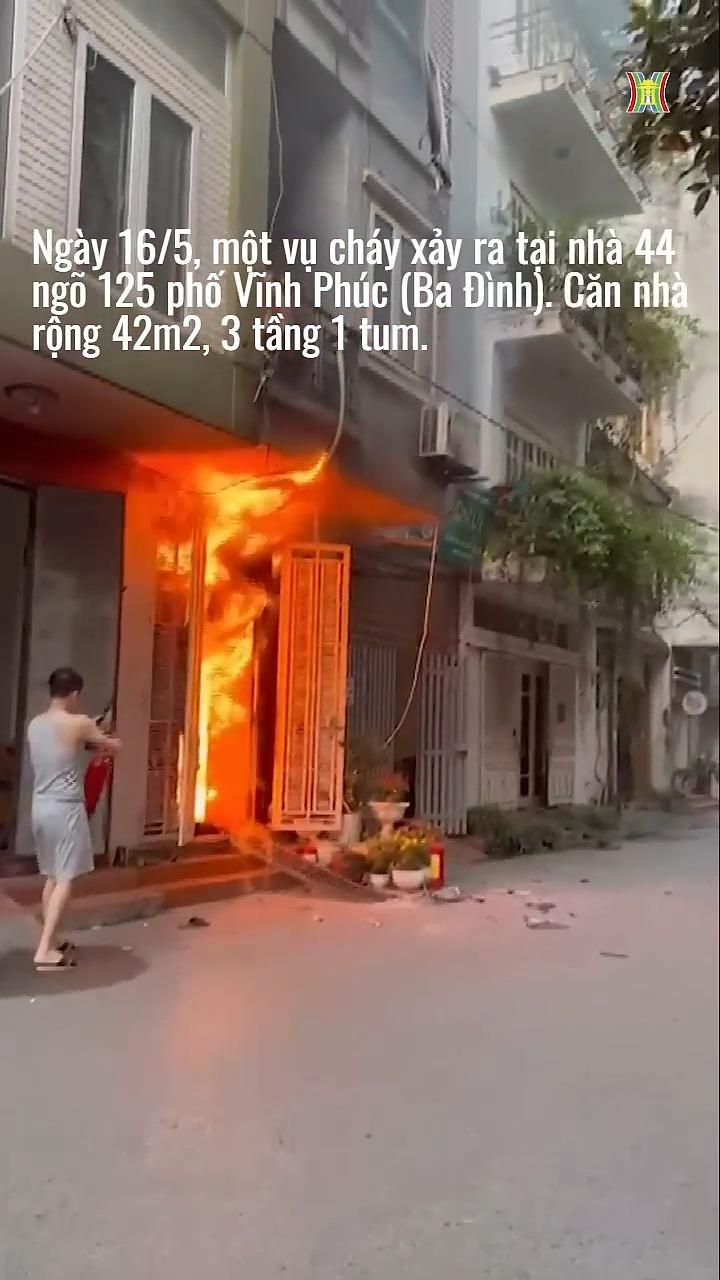FireExtinguisher: (78, 730, 126, 812), (416, 836, 449, 895)
not: (126, 410, 332, 852)
